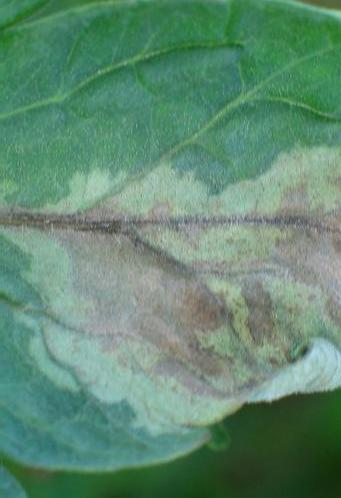Tomato leaf late blight: (0, 0, 341, 482)
